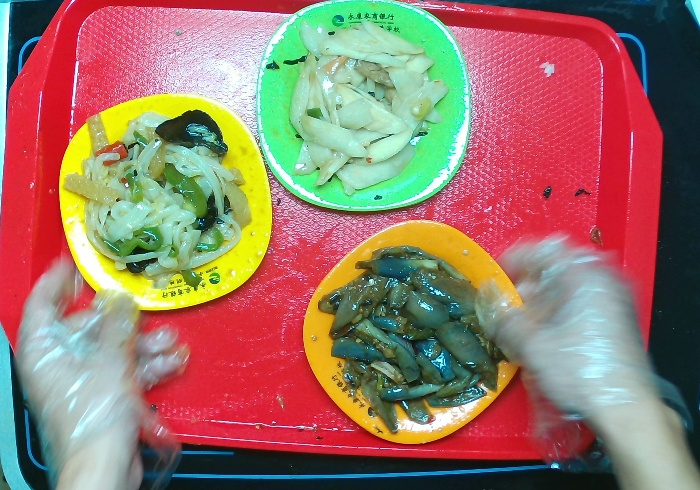YKMZ-Huang_Se_Fang_Die: (54, 93, 276, 316)
YKMZ-Ju_Se_Fang_Die: (297, 215, 534, 451)
YKMZ-Lv_Se_Fang_Die: (251, 1, 474, 217)
